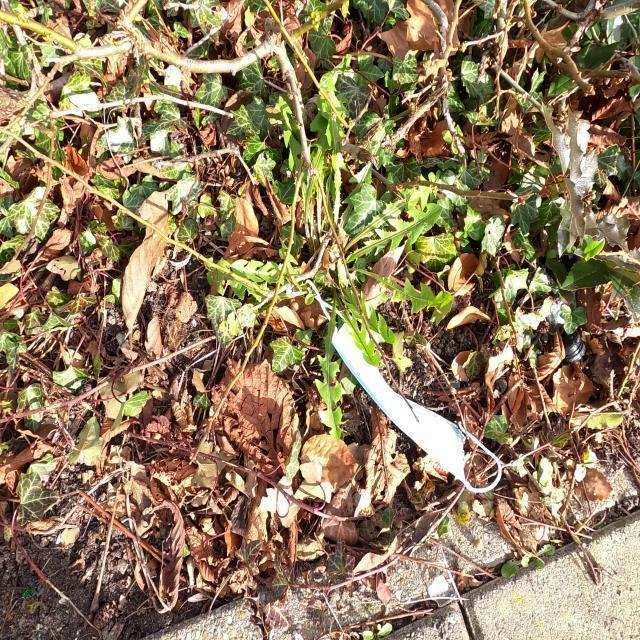Mask: (305, 281, 505, 504)
